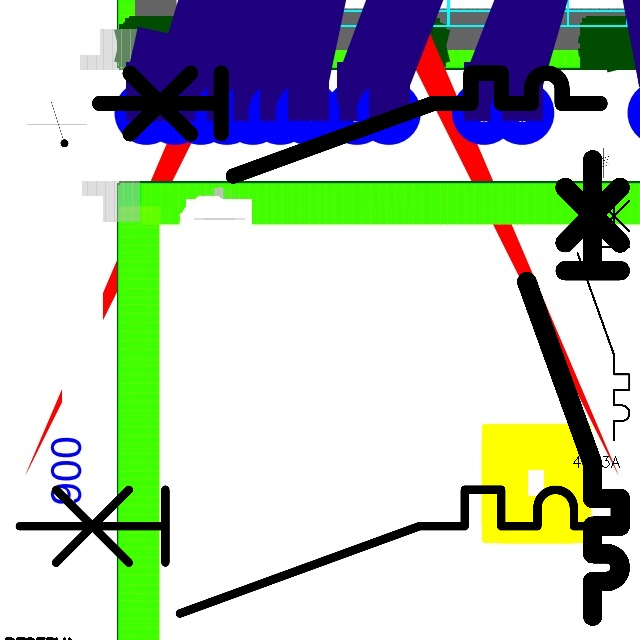interruptor_termomagnetico: (4, 474, 635, 628), (86, 60, 612, 189), (515, 148, 632, 628), (571, 178, 636, 446)
